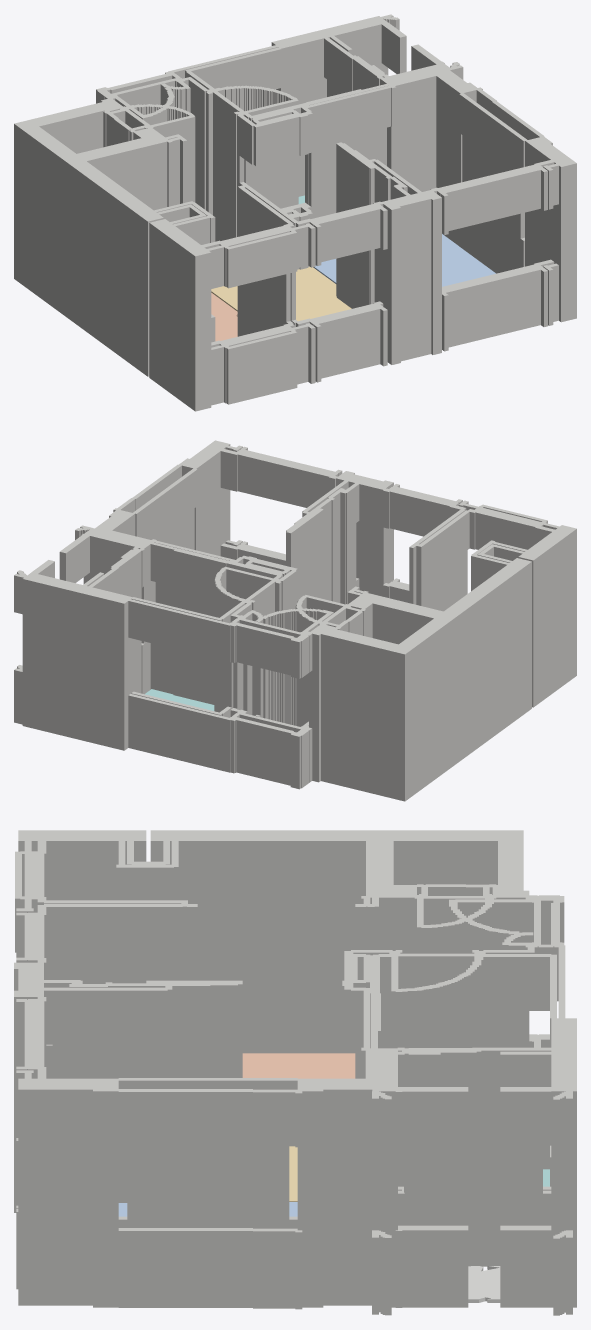
The picture shows the model from 3 angles, top to bottom: view 1: azimuth 30°, elevation 25°; view 2: azimuth 150°, elevation 25°; view 3: azimuth 270°, elevation 25°; orthographic projection. The views are drawn at different scales.
Parts seen in each view (by area): view 1: walls, room:living:3, room:bedroom:5, room:kitchen:0; view 2: walls, room:bath:1; view 3: walls, room:kitchen:0, room:ledge:4.
Part boxes in pixels (bbox=[...]): walls: bbox=[14, 14, 576, 411]; room:living:3: bbox=[211, 266, 351, 321]; room:bedroom:5: bbox=[313, 234, 495, 286]; room:kitchen:0: bbox=[211, 293, 237, 341]; walls: bbox=[14, 440, 576, 801]; room:bath:1: bbox=[145, 689, 214, 710]; walls: bbox=[14, 830, 576, 1315]; room:kitchen:0: bbox=[242, 1053, 355, 1078]; room:ledge:4: bbox=[468, 1266, 500, 1302].
Size of the model in its own units: 7.48 by 2.8 by 6.61.
